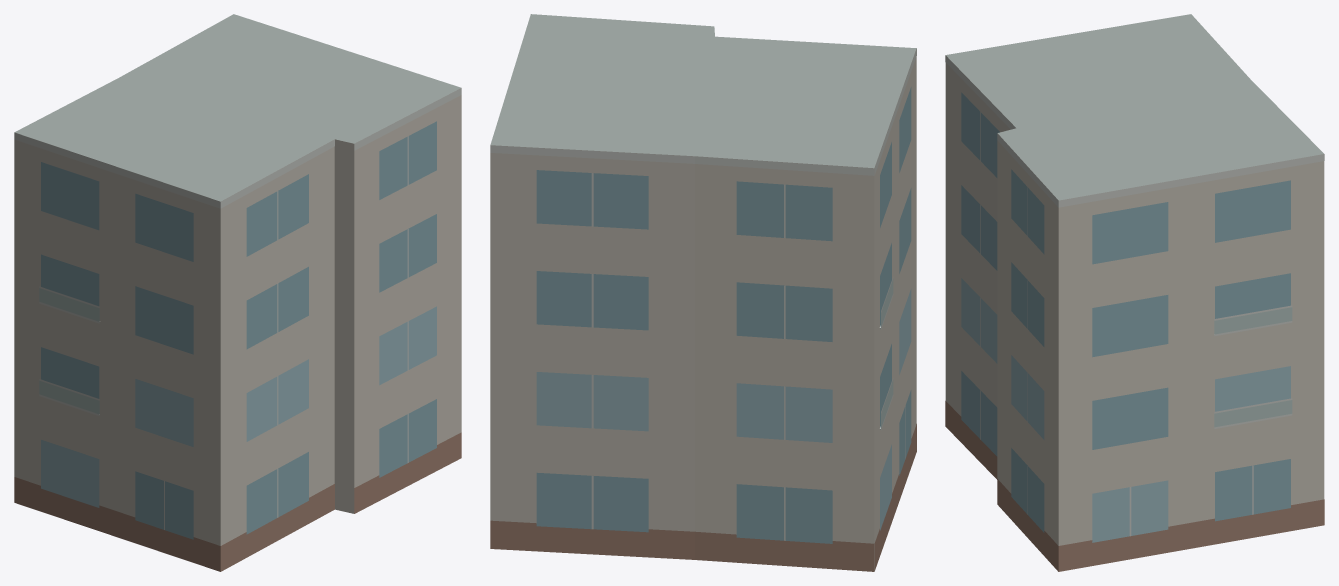
Rendered from survey-upis-32853067.glb.
The picture shows the model from 3 angles, left to right: view 1: azimuth 30°, elevation 25°; view 2: azimuth 150°, elevation 25°; view 3: azimuth 270°, elevation 25°; orthographic projection. The views are drawn at different scales.
Visible parts, largest first — view 1: survey-upis-32853067.tmp; view 2: survey-upis-32853067.tmp; view 3: survey-upis-32853067.tmp.
Boxes of the visible parts, bbox=[...] form: survey-upis-32853067.tmp: bbox=[14, 14, 461, 571]; survey-upis-32853067.tmp: bbox=[490, 14, 916, 571]; survey-upis-32853067.tmp: bbox=[945, 14, 1324, 571].
Size of the model in its own units: 13.8 by 12.8 by 11.85.
